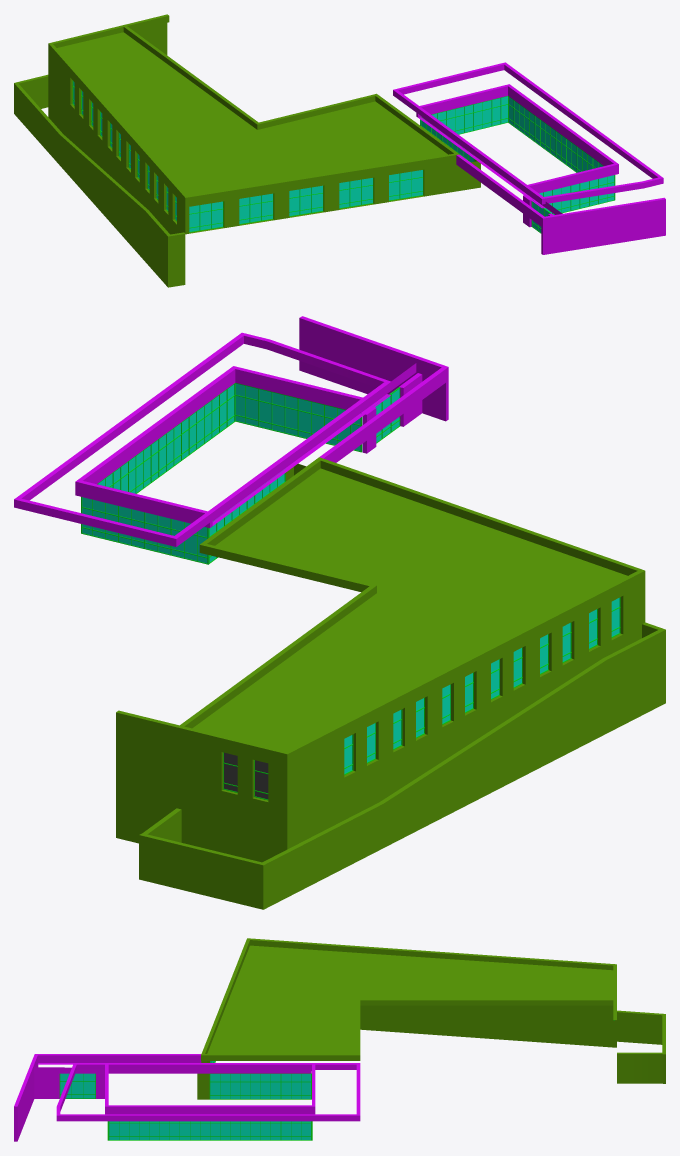
The model's file is SM_Bld_Blok7_01a.fbx.
The picture shows the model from 3 angles, top to bottom: view 1: azimuth 30°, elevation 25°; view 2: azimuth 150°, elevation 25°; view 3: azimuth 270°, elevation 25°; orthographic projection. The views are drawn at different scales.
Visible parts, largest first — view 1: SM_Bld_Blok7_01a, SM_Bld_Blok7_01b; view 2: SM_Bld_Blok7_01a, SM_Bld_Blok7_01b; view 3: SM_Bld_Blok7_01a, SM_Bld_Blok7_01b.
Part boxes in pixels (bbox=[...]): SM_Bld_Blok7_01a: bbox=[14, 14, 665, 287]; SM_Bld_Blok7_01b: bbox=[72, 80, 615, 233]; SM_Bld_Blok7_01a: bbox=[14, 316, 665, 909]; SM_Bld_Blok7_01b: bbox=[81, 383, 620, 800]; SM_Bld_Blok7_01a: bbox=[14, 938, 665, 1141]; SM_Bld_Blok7_01b: bbox=[59, 1020, 614, 1140].
Bounding box in the file's own units: 5035 × 1060 × 7500.
